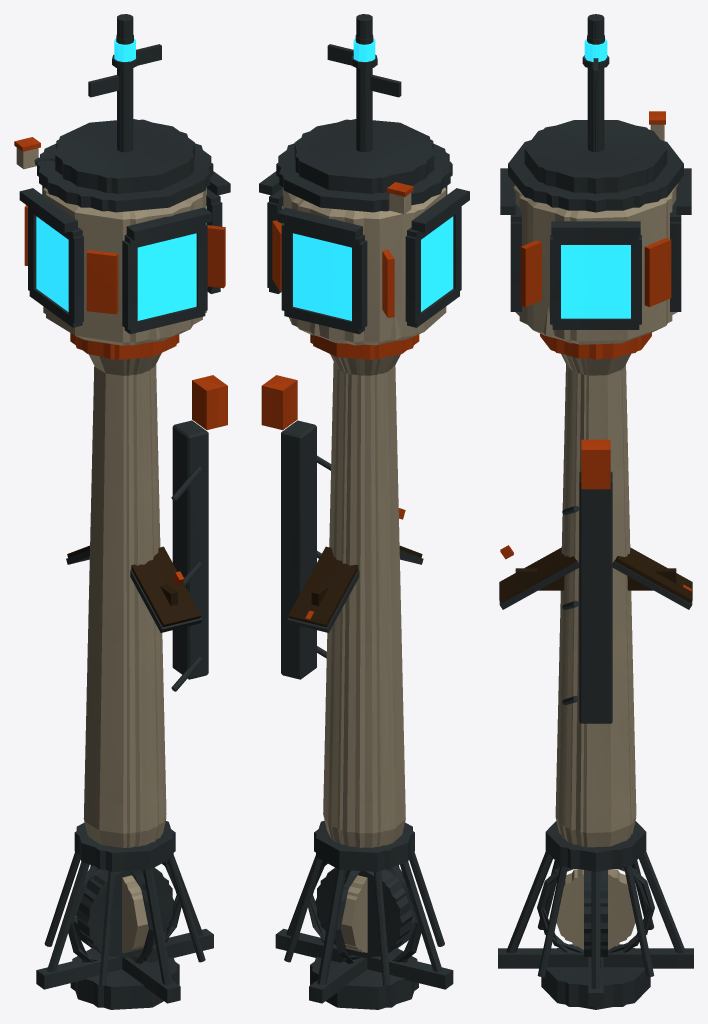
The model's file is place_nav_buoy.glb.
The picture shows the model from 3 angles, left to right: view 1: azimuth 30°, elevation 25°; view 2: azimuth 150°, elevation 25°; view 3: azimuth 270°, elevation 25°; orthographic projection.
Parts seen in each view (by area): view 1: LOD0_Buoy_Stabilizer_Frame, LOD0_Buoy_Pressure_Shell, LOD1_Buoy_Stabilizer_Frame, LOD1_Buoy_Pressure_Shell, LOD0_Buoy_Nav_Optic, LOD0_Buoy_Service_Marking, LOD2_Buoy_Pressure_Shell, LOD0_Buoy_Solar_Cell, LOD2_Buoy_Stabilizer_Frame, LOD1_Buoy_Service_Marking, LOD2_Buoy_Service_Marking; view 2: LOD0_Buoy_Stabilizer_Frame, LOD0_Buoy_Pressure_Shell, LOD1_Buoy_Pressure_Shell, LOD1_Buoy_Stabilizer_Frame, LOD0_Buoy_Nav_Optic, LOD2_Buoy_Pressure_Shell, LOD0_Buoy_Service_Marking, LOD0_Buoy_Solar_Cell, LOD2_Buoy_Stabilizer_Frame, LOD1_Buoy_Service_Marking, LOD2_Buoy_Service_Marking; view 3: LOD0_Buoy_Stabilizer_Frame, LOD0_Buoy_Pressure_Shell, LOD1_Buoy_Stabilizer_Frame, LOD1_Buoy_Pressure_Shell, LOD0_Buoy_Service_Marking, LOD0_Buoy_Nav_Optic, LOD2_Buoy_Pressure_Shell, LOD0_Buoy_Solar_Cell, LOD1_Buoy_Service_Marking, LOD2_Buoy_Solar_Cell, LOD2_Buoy_Stabilizer_Frame.
Boxes of the visible parts, x1,y1,x2,y2 form: LOD0_Buoy_Stabilizer_Frame: (19,14,230,1009); LOD0_Buoy_Pressure_Shell: (17,148,203,952); LOD1_Buoy_Stabilizer_Frame: (34,14,210,1007); LOD1_Buoy_Pressure_Shell: (16,148,206,949); LOD0_Buoy_Nav_Optic: (36,38,206,320); LOD0_Buoy_Service_Marking: (14,137,225,585); LOD2_Buoy_Pressure_Shell: (122,310,206,952); LOD0_Buoy_Solar_Cell: (67,545,201,627); LOD2_Buoy_Stabilizer_Frame: (37,16,213,969); LOD1_Buoy_Service_Marking: (75,334,226,428); LOD2_Buoy_Service_Marking: (192,375,227,429); LOD0_Buoy_Stabilizer_Frame: (259,14,469,1009); LOD0_Buoy_Pressure_Shell: (282,187,446,952); LOD1_Buoy_Pressure_Shell: (297,193,417,949); LOD1_Buoy_Stabilizer_Frame: (279,14,449,1007); LOD0_Buoy_Nav_Optic: (282,38,453,320); LOD2_Buoy_Pressure_Shell: (311,311,401,952); LOD0_Buoy_Service_Marking: (272,182,419,619); LOD0_Buoy_Solar_Cell: (288,545,422,627); LOD2_Buoy_Stabilizer_Frame: (276,15,452,956); LOD1_Buoy_Service_Marking: (262,334,413,428); LOD2_Buoy_Service_Marking: (261,375,297,430); LOD0_Buoy_Stabilizer_Frame: (498,14,693,1009); LOD0_Buoy_Pressure_Shell: (513,125,678,949); LOD1_Buoy_Stabilizer_Frame: (509,14,682,1006); LOD1_Buoy_Pressure_Shell: (519,124,672,945); LOD0_Buoy_Service_Marking: (500,111,691,591); LOD0_Buoy_Nav_Optic: (561,38,630,318); LOD2_Buoy_Pressure_Shell: (543,307,677,946); LOD0_Buoy_Solar_Cell: (499,547,692,603); LOD1_Buoy_Service_Marking: (555,338,636,488); LOD2_Buoy_Solar_Cell: (515,568,676,590); LOD2_Buoy_Stabilizer_Frame: (508,16,683,983).
Size of the model in its own units: 2.97 by 15.3 by 2.8.
Materials: 5 (5 with a texture image).
